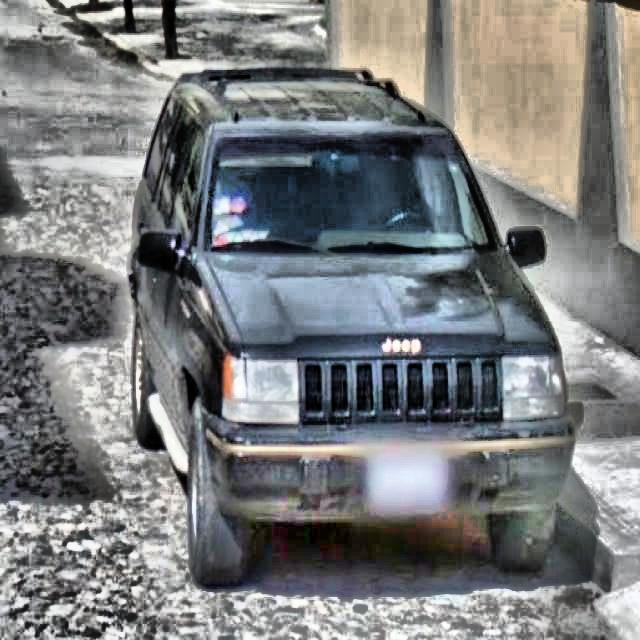carro: (131, 59, 583, 604)
